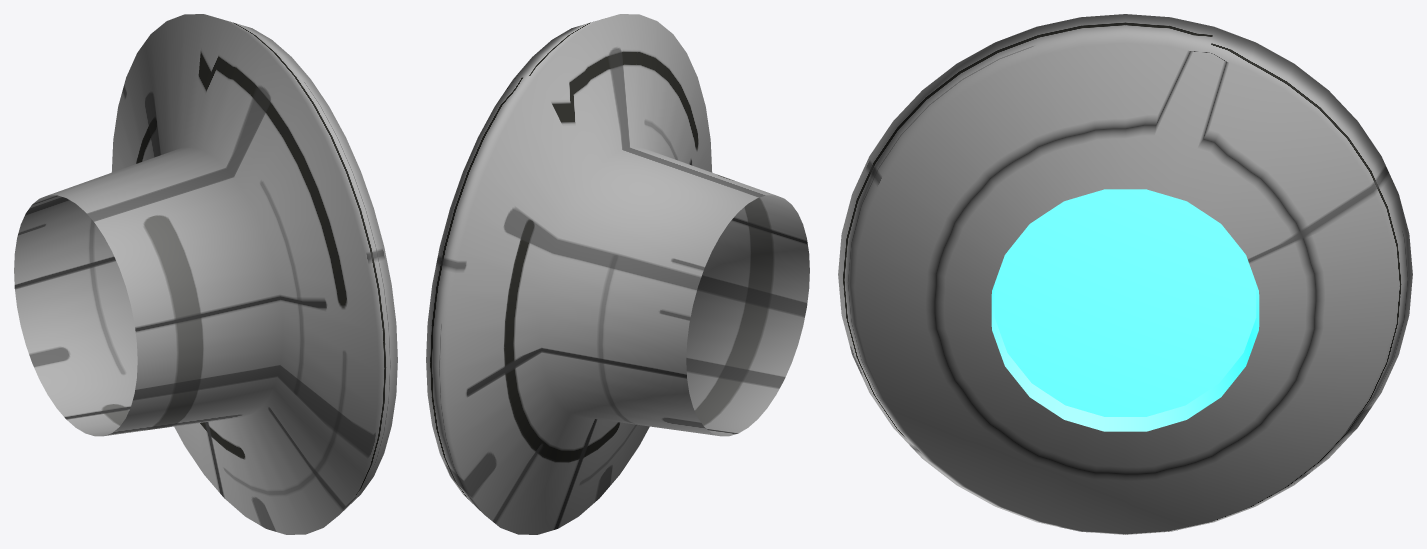
The model's file is cylinder_piece.fbx.
The picture shows the model from 3 angles, left to right: view 1: azimuth 30°, elevation 25°; view 2: azimuth 150°, elevation 25°; view 3: azimuth 270°, elevation 25°; orthographic projection. The views are drawn at different scales.
Parts seen in each view (by area): view 1: polySurface1; view 2: polySurface1; view 3: polySurface1.
Boxes of the visible parts, bbox=[...] form: polySurface1: bbox=[14, 14, 397, 534]; polySurface1: bbox=[426, 14, 809, 534]; polySurface1: bbox=[838, 14, 1412, 534].
Bounding box in the file's own units: 0.6017 × 1.17 × 1.17.
